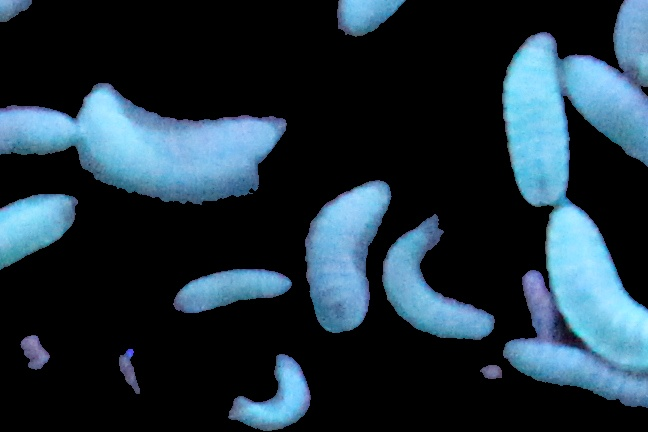larvae: (77, 82, 285, 204), (543, 203, 648, 373), (495, 23, 579, 213), (385, 217, 494, 342), (303, 179, 388, 334), (560, 54, 648, 168), (503, 336, 648, 405), (231, 353, 312, 430), (171, 267, 293, 315), (1, 193, 74, 267), (1, 103, 75, 162), (333, 1, 435, 36), (608, 1, 648, 86)
